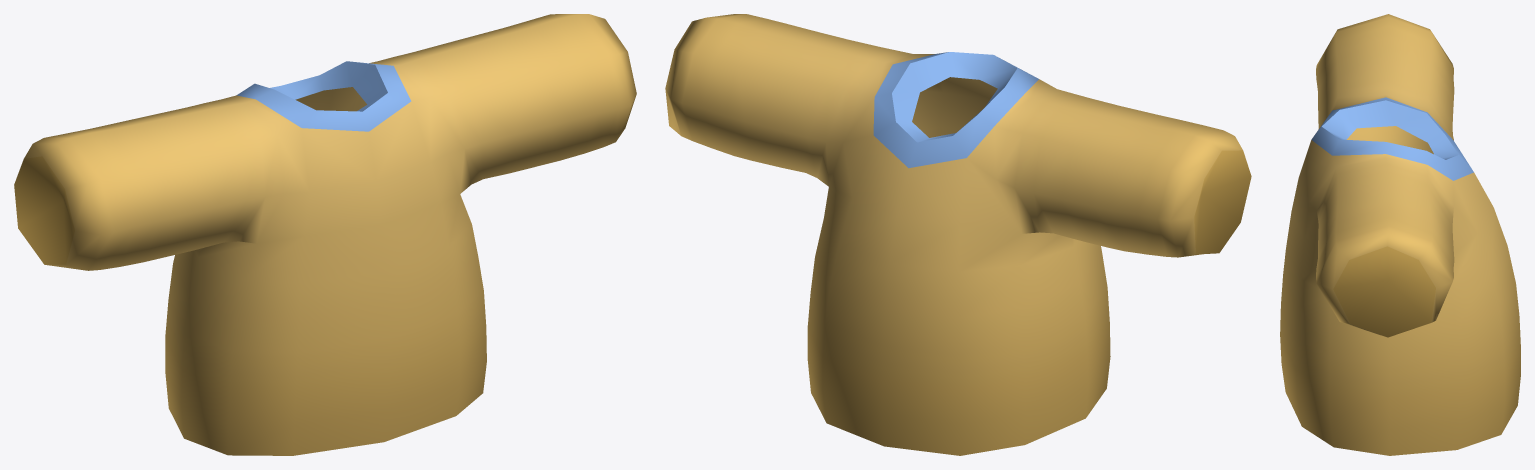
The model's file is Top_9.fbx.
The picture shows the model from 3 angles, left to right: view 1: azimuth 30°, elevation 25°; view 2: azimuth 150°, elevation 25°; view 3: azimuth 270°, elevation 25°; orthographic projection. The views are drawn at different scales.
Parts seen in each view (by area): view 1: Top_9; view 2: Top_9; view 3: Top_9.
Part boxes in pixels (x1=…): Top_9: x1=14, y1=14, x2=636, y2=455; Top_9: x1=665, y1=14, x2=1251, y2=455; Top_9: x1=1280, y1=14, x2=1520, y2=455.
Bounding box in the file's own units: 83.07 × 47.57 × 36.49.
